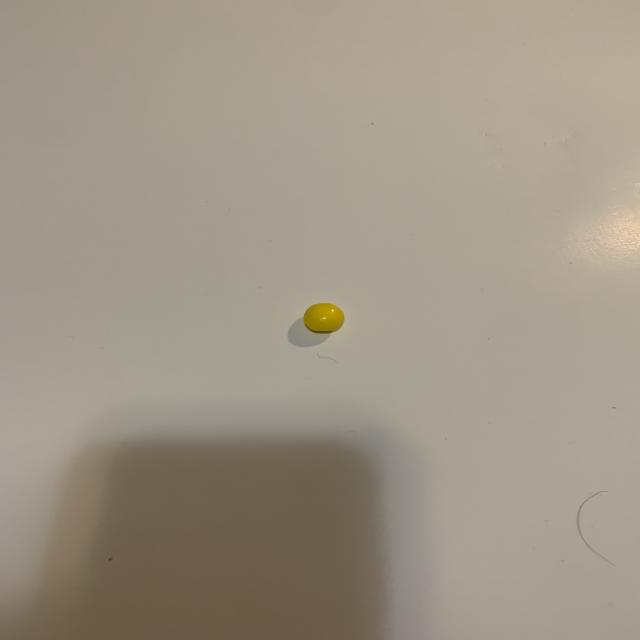smartie: (303, 304, 343, 332)
